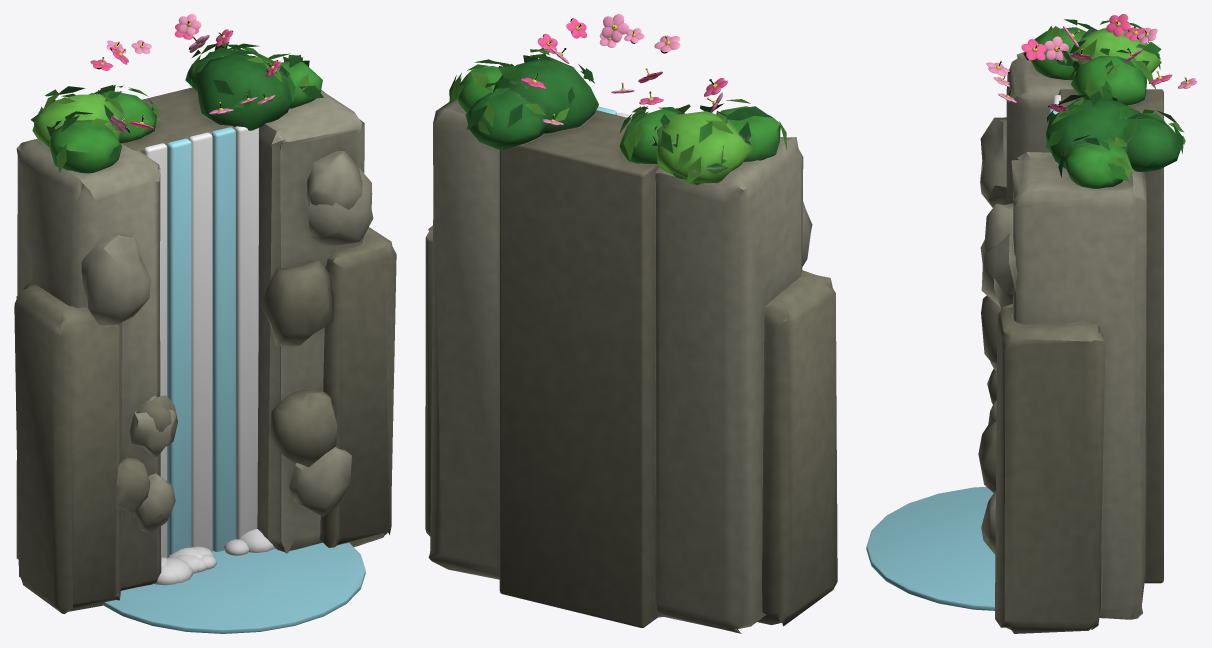
File: tf_waterfall.fbx
3 renders of one model, left to right at view 1: azimuth 30°, elevation 25°; view 2: azimuth 150°, elevation 25°; view 3: azimuth 270°, elevation 25°, orthographic. The views are drawn at different scales.
Parts seen in each view (by area): view 1: tf_waterfall; view 2: tf_waterfall; view 3: tf_waterfall.
Boxes of the visible parts, left/top/right/bottom form: tf_waterfall: left=14, top=14, right=396, bottom=633; tf_waterfall: left=425, top=14, right=837, bottom=633; tf_waterfall: left=866, top=14, right=1197, bottom=633.
Size of the model in its own units: 15.31 by 22.3 by 12.58.
10 materials, 10 textured.
